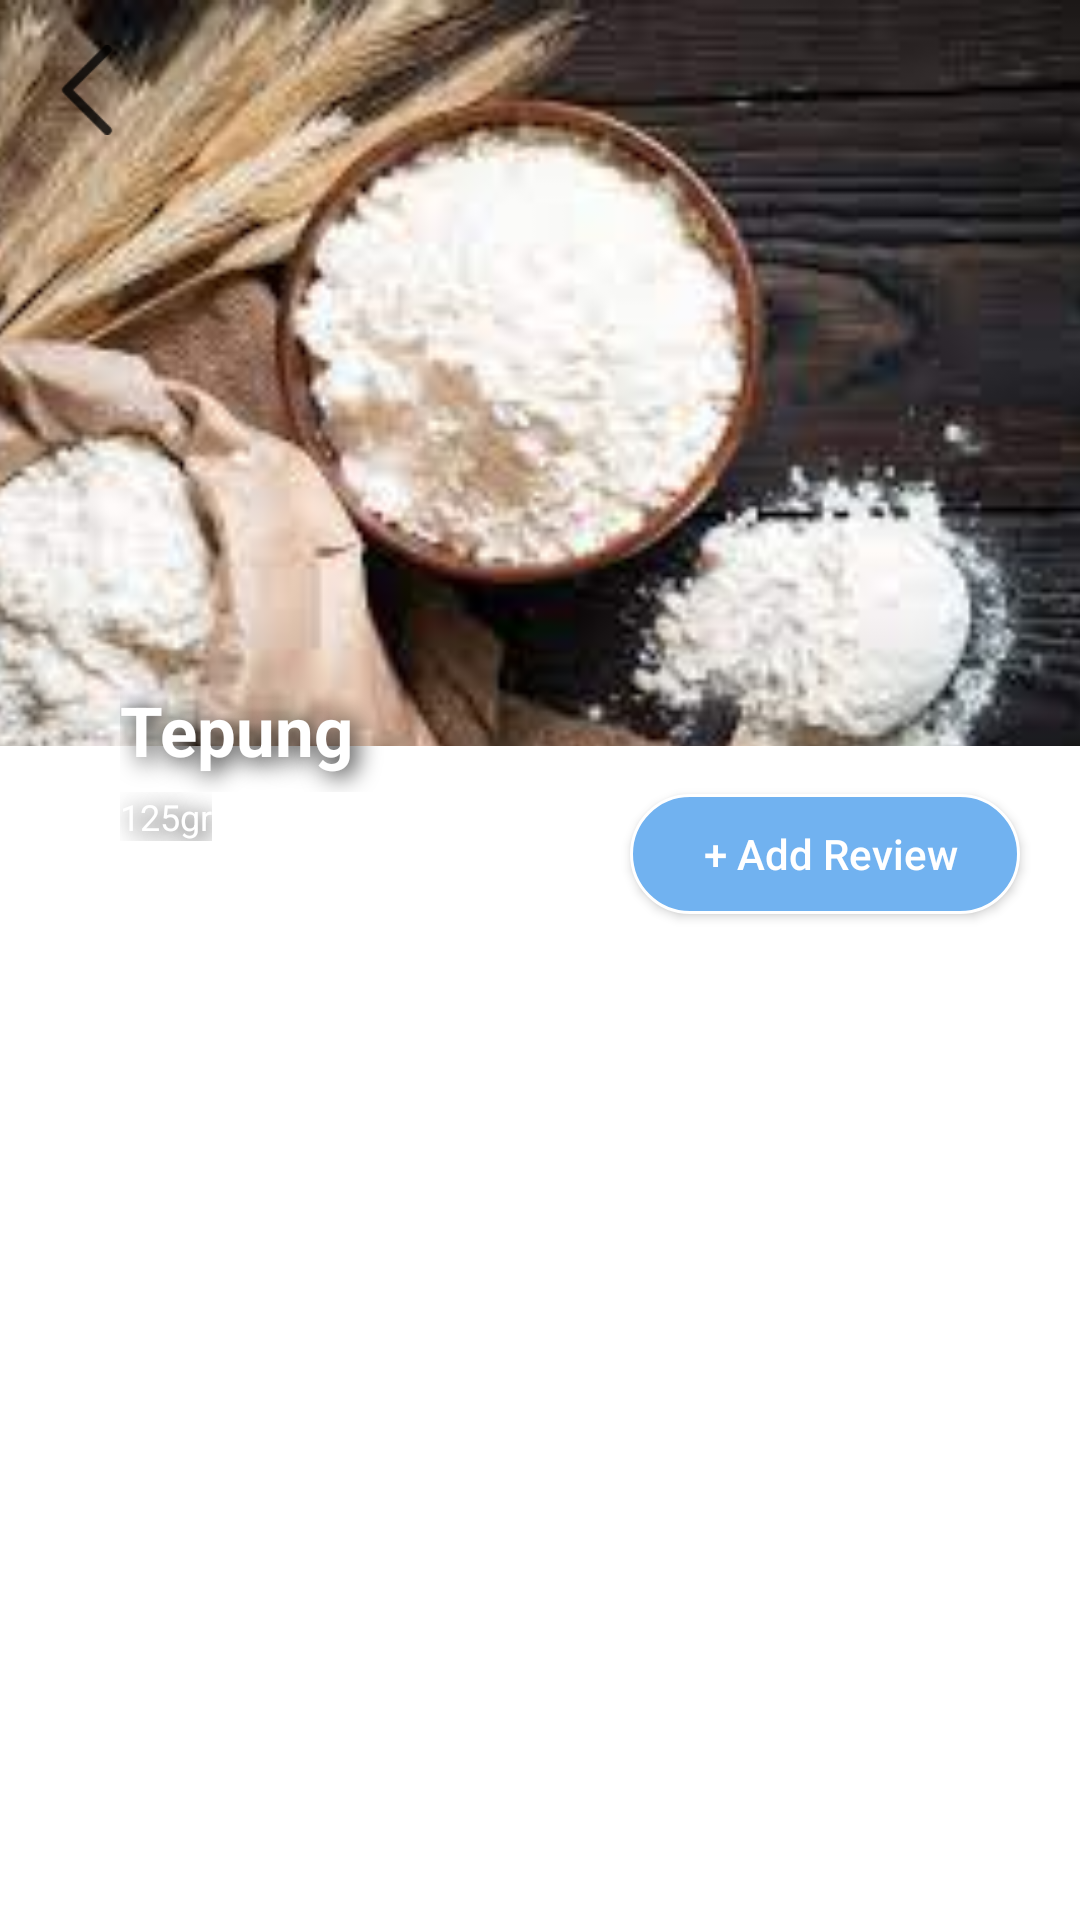

Named icons in this screenshot (1080px×1920px) and their centers, [x,y]:
back: [87,90]
